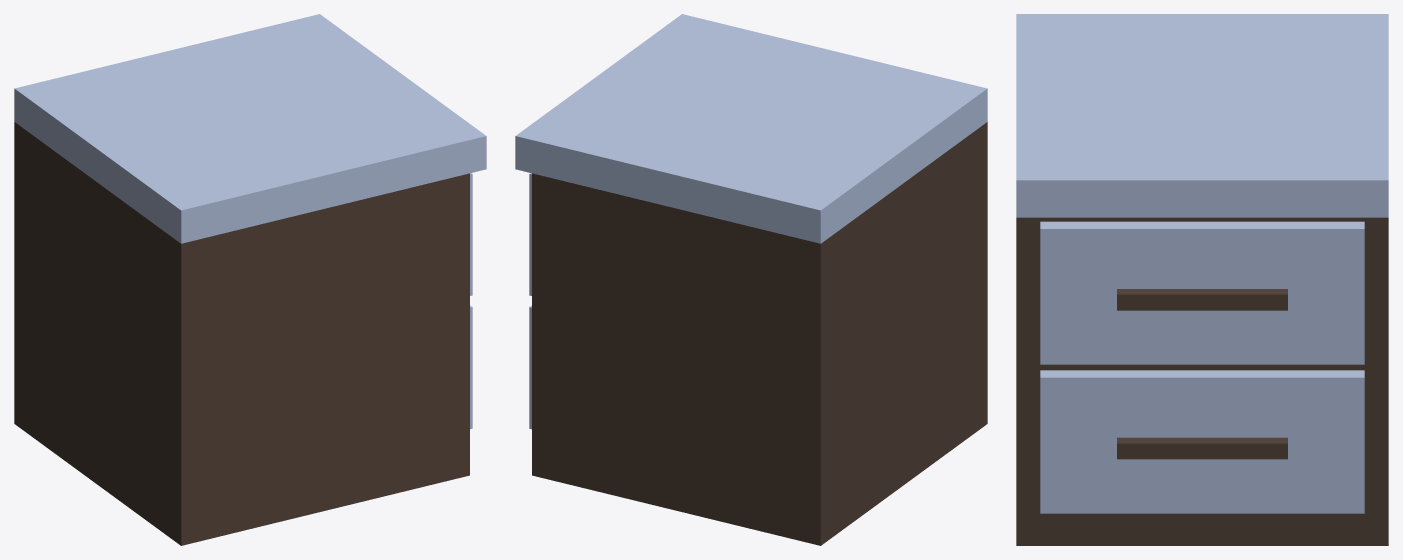
File: CountertopDrawers.fbx
3 renders of one model, left to right at view 1: azimuth 30°, elevation 25°; view 2: azimuth 150°, elevation 25°; view 3: azimuth 270°, elevation 25°, orthographic. The views are drawn at different scales.
Visible parts, largest first — view 1: CountertopDrawersBase; view 2: CountertopDrawersBase; view 3: CountertopDrawersBase, CountertopDrawer1, CountertopDrawer2.
Part boxes in pixels (box(x1,y1,x2,y2)): CountertopDrawersBase: box(14, 14, 486, 545); CountertopDrawersBase: box(515, 14, 987, 545); CountertopDrawersBase: box(1016, 14, 1388, 545); CountertopDrawer1: box(1040, 221, 1364, 364); CountertopDrawer2: box(1040, 370, 1364, 513).
Bounding box in the file's own units: 163 × 167 × 150.
